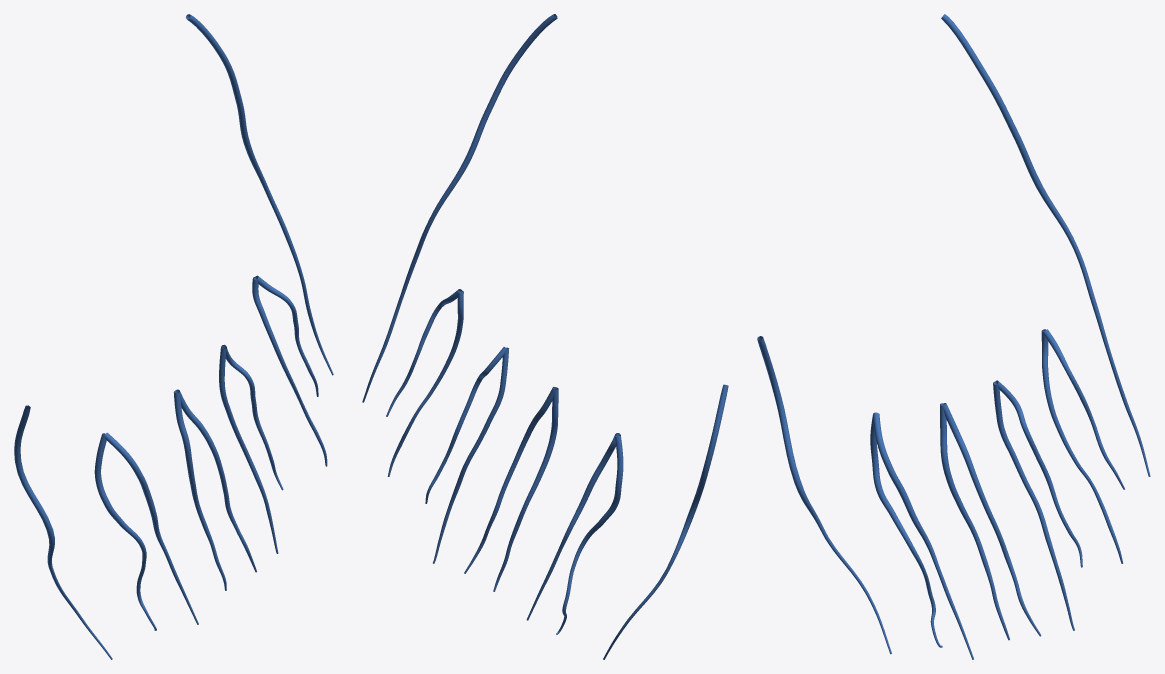
3 renders of one model, left to right at view 1: azimuth 30°, elevation 25°; view 2: azimuth 150°, elevation 25°; view 3: azimuth 330°, elevation 25°, orthographic. The views are drawn at different scales.
Parts seen in each view (by area): view 1: 左侧趾足底静脉; view 2: 左侧趾足底静脉; view 3: 左侧趾足底静脉.
Boxes of the visible parts, x1,y1,x2,y2 form: 左侧趾足底静脉: [14, 14, 333, 659]; 左侧趾足底静脉: [362, 14, 728, 659]; 左侧趾足底静脉: [757, 14, 1150, 659].
Bounding box in the file's own units: 0.1222 × 0.2179 × 0.0235.
